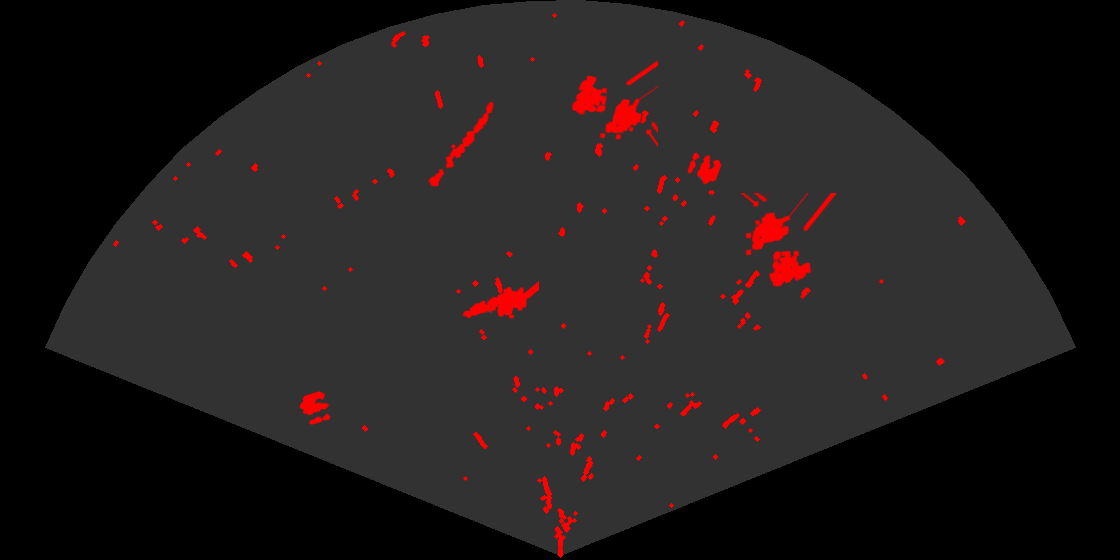ball: (686, 151, 723, 186), (298, 390, 332, 426)
cage: (739, 193, 836, 289), (570, 59, 658, 149)
chain: (427, 100, 495, 188)
frogman: (461, 280, 539, 320)
